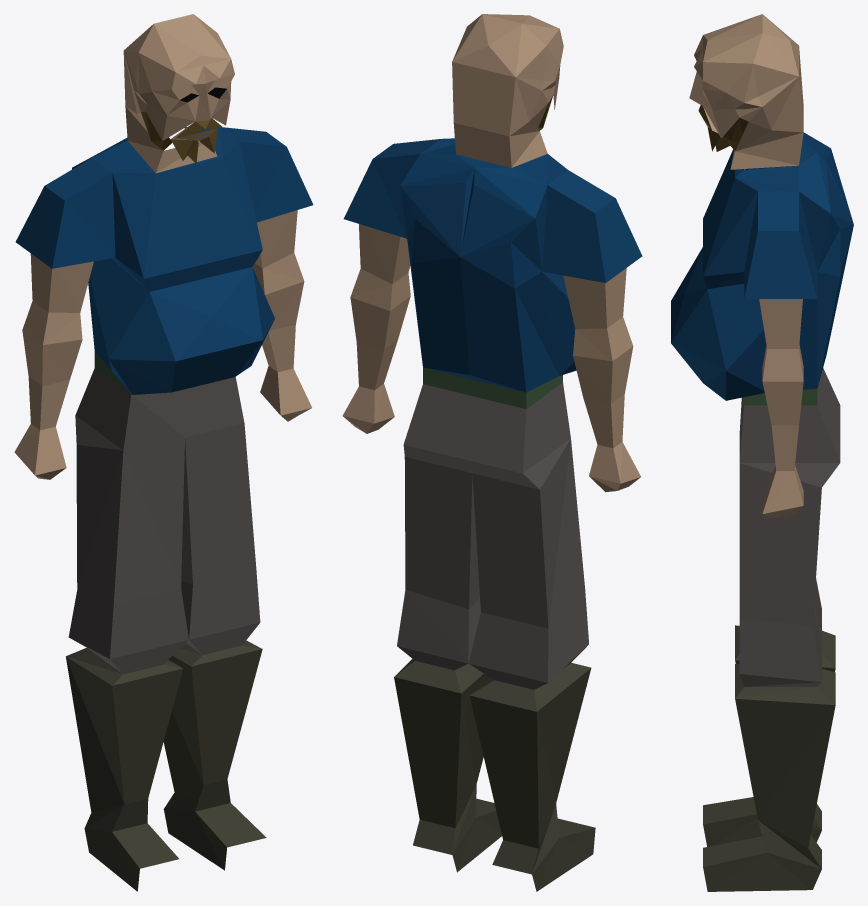
File: stealing-artefacts.gltf
The picture shows the model from 3 angles, left to right: view 1: azimuth 30°, elevation 25°; view 2: azimuth 150°, elevation 25°; view 3: azimuth 270°, elevation 25°; orthographic projection.
Size of the model in its own units: 70 by 202 by 40.
2 materials, 2 textured.
